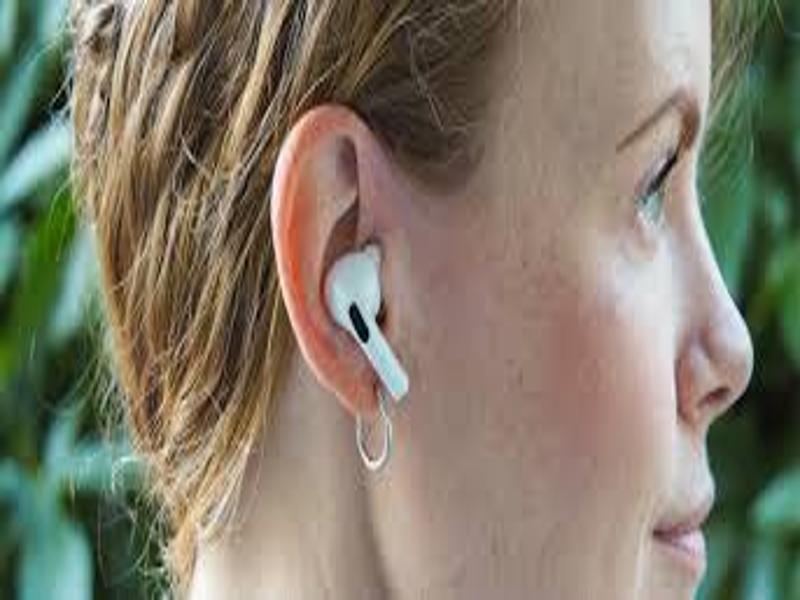headphone: (321, 240, 417, 399)
